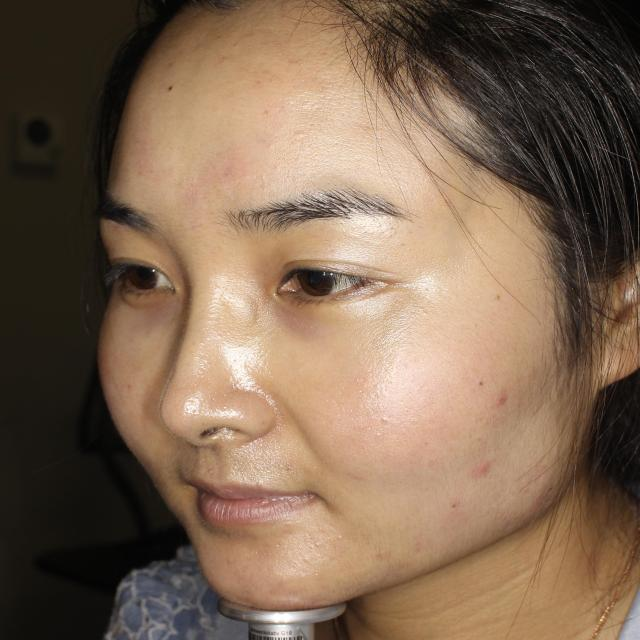acne: (489, 385, 519, 414), (467, 458, 495, 485)
